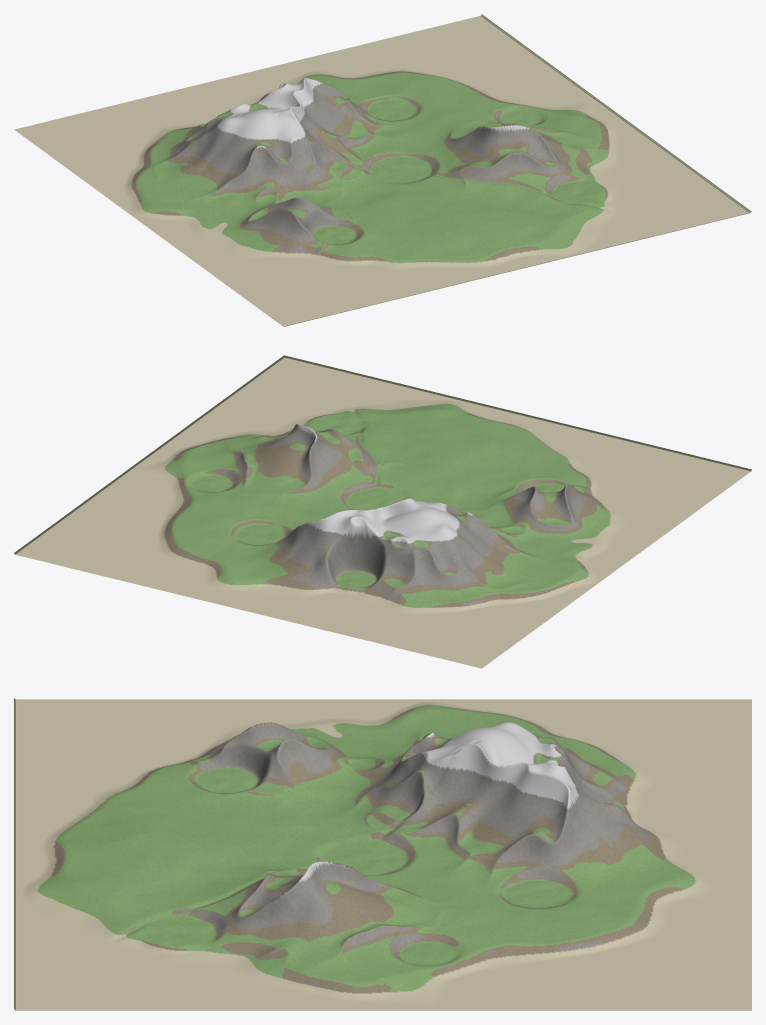
The model's file is island.glb.
3 views of the same model, one above another, from view 1: azimuth 30°, elevation 25°; view 2: azimuth 150°, elevation 25°; view 3: azimuth 270°, elevation 25° (orthographic). The views are drawn at different scales.
Parts seen in each view (by area): view 1: Island; view 2: Island; view 3: Island.
Boxes of the visible parts, left/top/right/bottom form: Island: left=14, top=14, right=751, bottom=326; Island: left=14, top=355, right=751, bottom=668; Island: left=14, top=698, right=751, bottom=1010.
Bounding box in the file's own units: 2048 × 222 × 2048.
